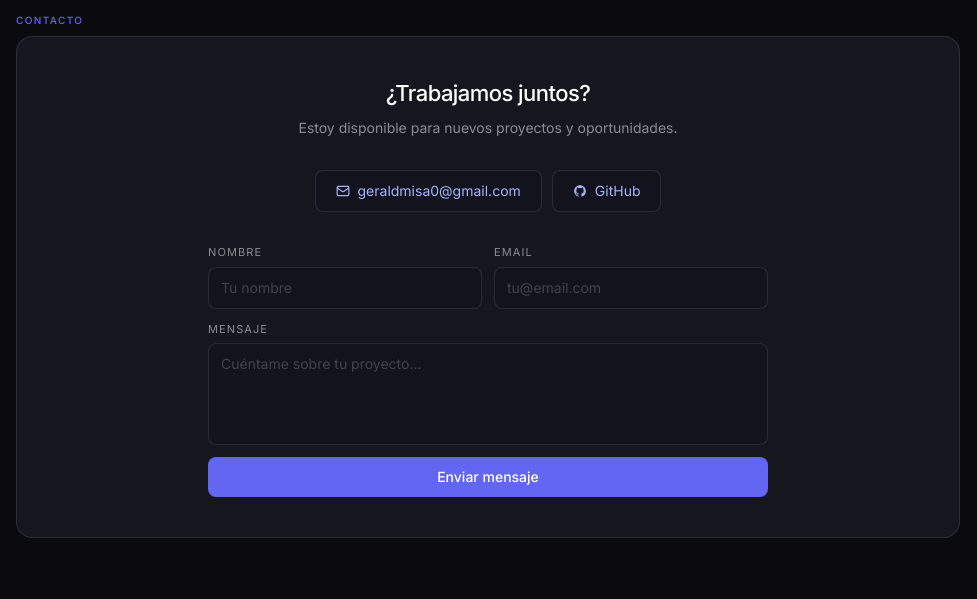
Test case: Contact › muestra error si el nombre está vacío
Click the button "Enviar mensaje" at (488, 477), box [208,457,768,497]
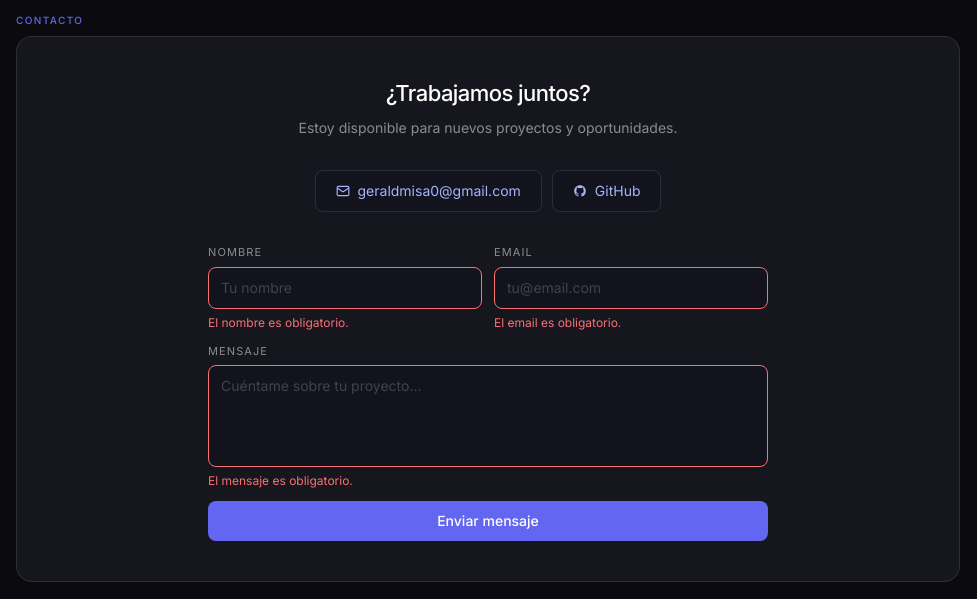
Check: the text "El nombre es obligatorio." is shown, box [208,314,349,330]
